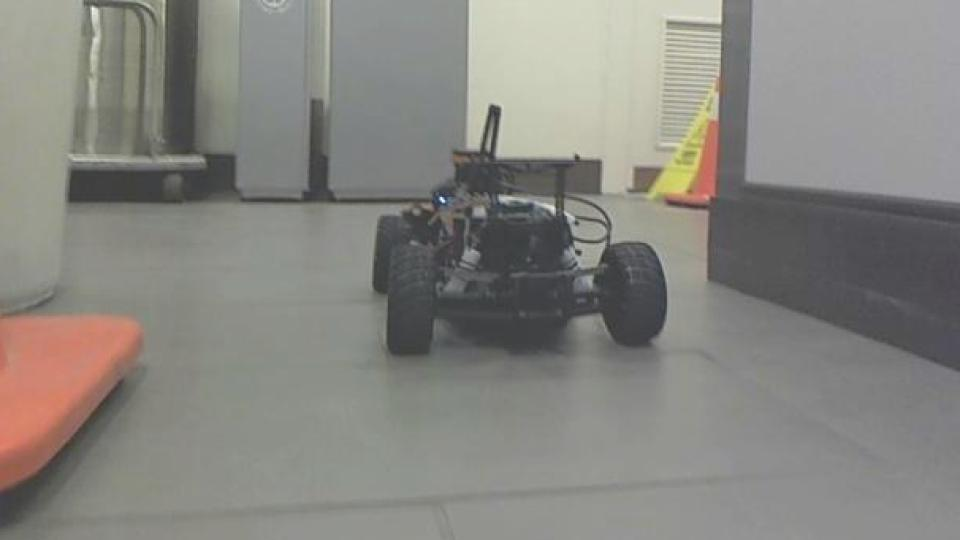car: (369, 103, 672, 359)
